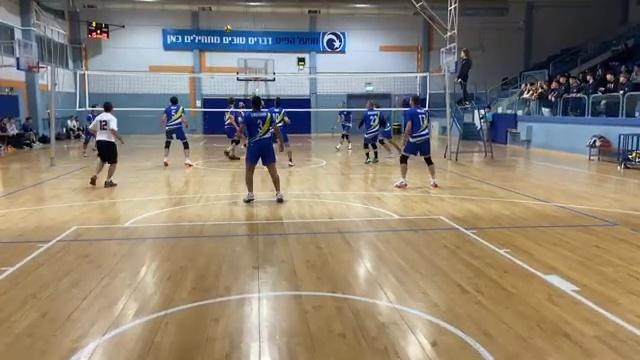ball: (223, 24, 234, 35)
